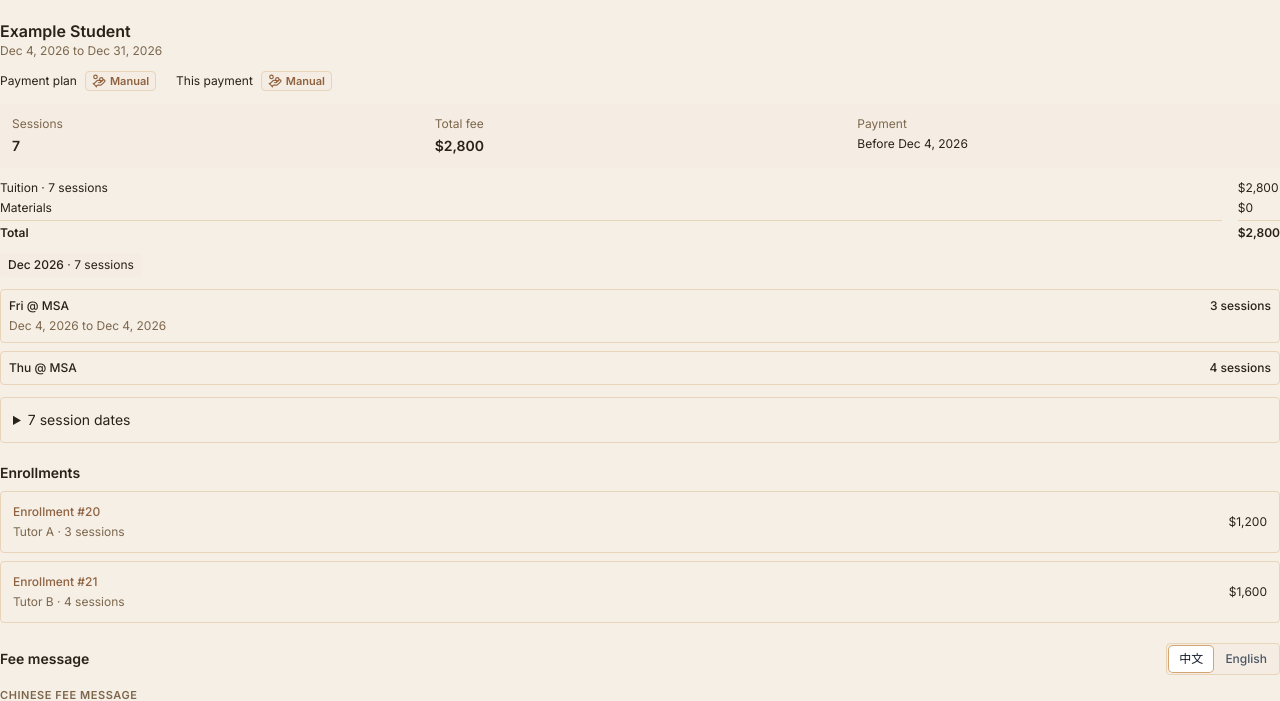
Test case: combined payment collection › keeps exact combined-payment controls inline and opens teaching records in the workspace
Step 1. Click the button "Enrollment #21" → (55, 582), box top-left (13, 574), bottom-right (97, 590)
(page scrolled)
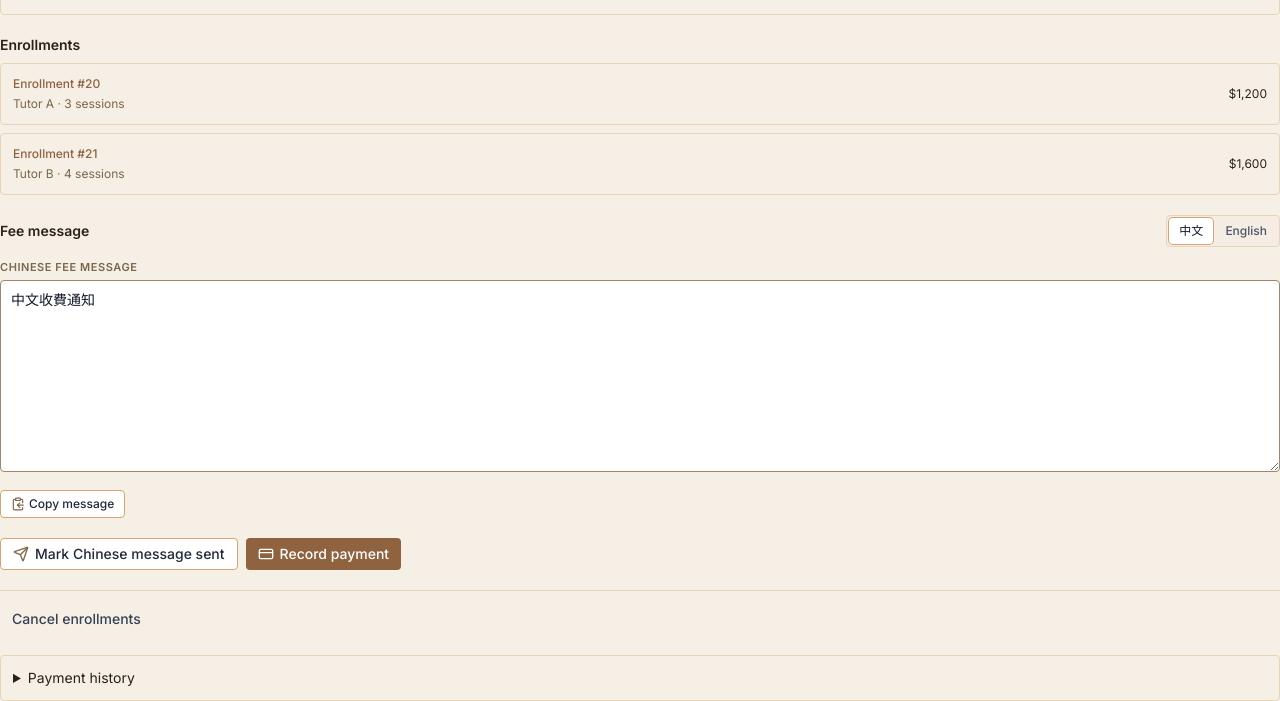
Step 2. Click the button "Record payment" → (323, 554), box top-left (246, 538), bottom-right (401, 570)
(page scrolled)
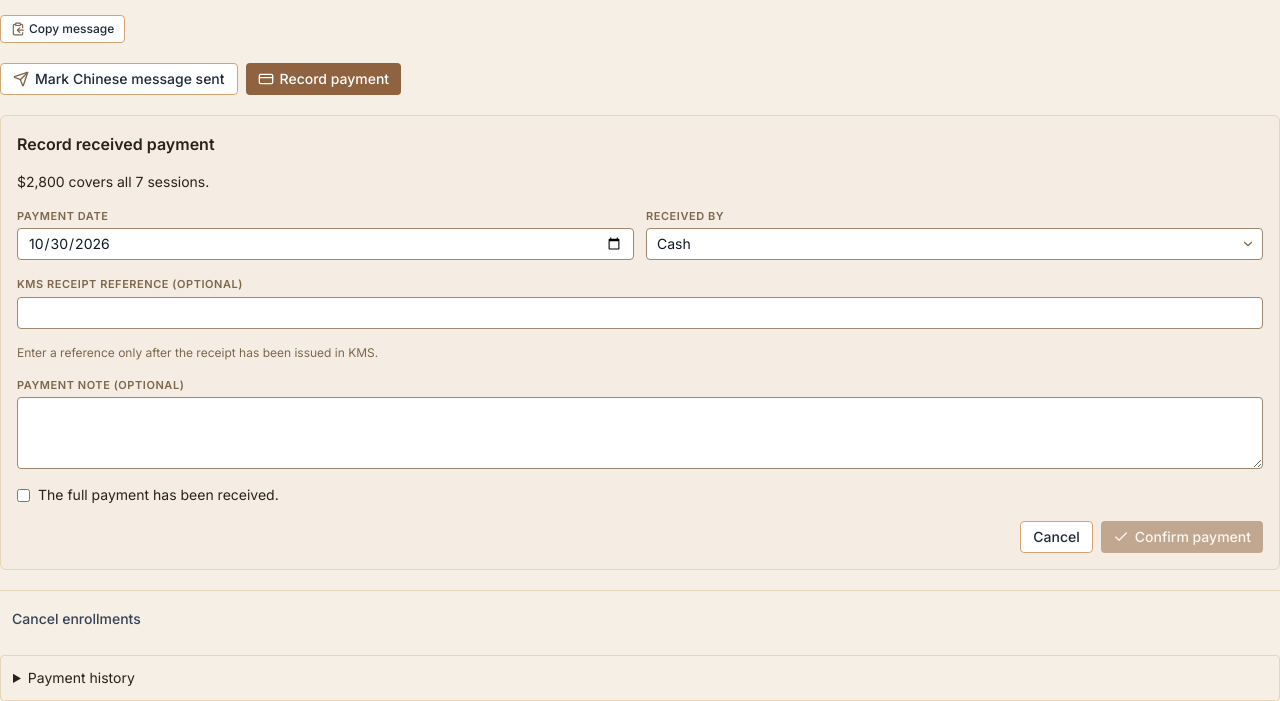
Step 3. Click the checkbox labelled "The full payment has been received." → (24, 496), box top-left (17, 489), bottom-right (30, 502)
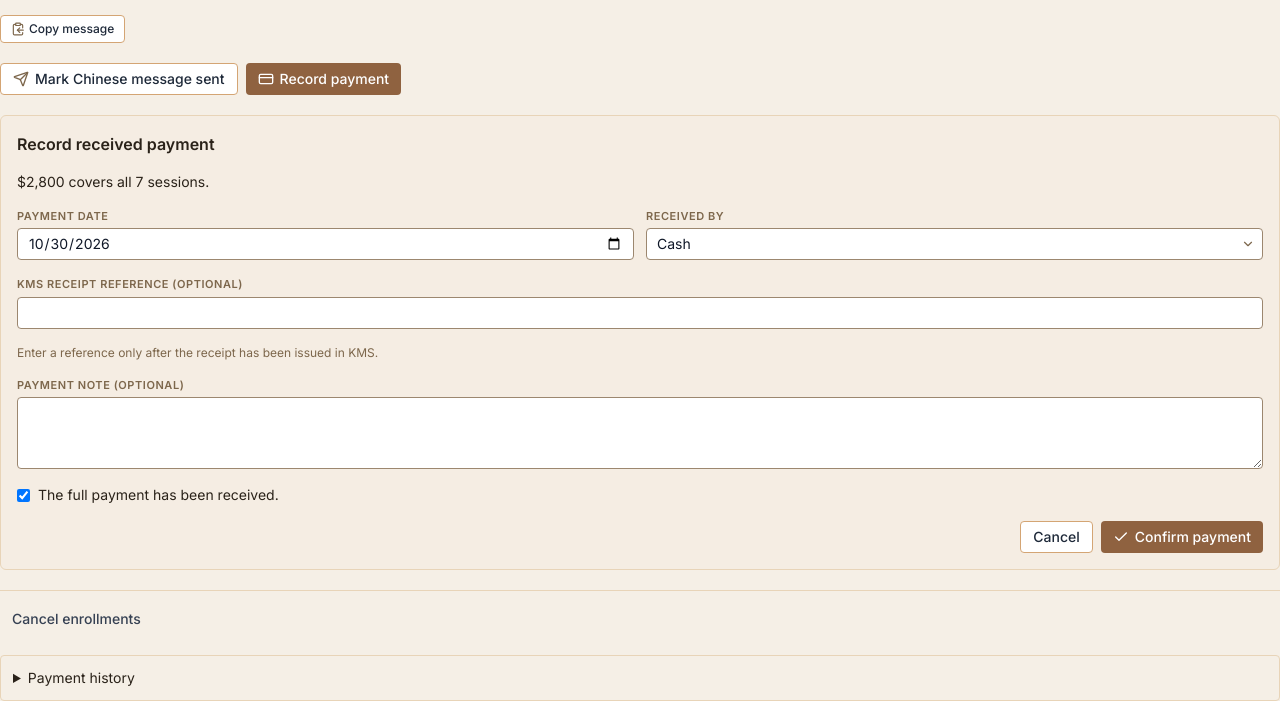
Step 4. Click the button "Confirm payment" → (1182, 537), box top-left (1101, 521), bottom-right (1263, 553)
(page scrolled)
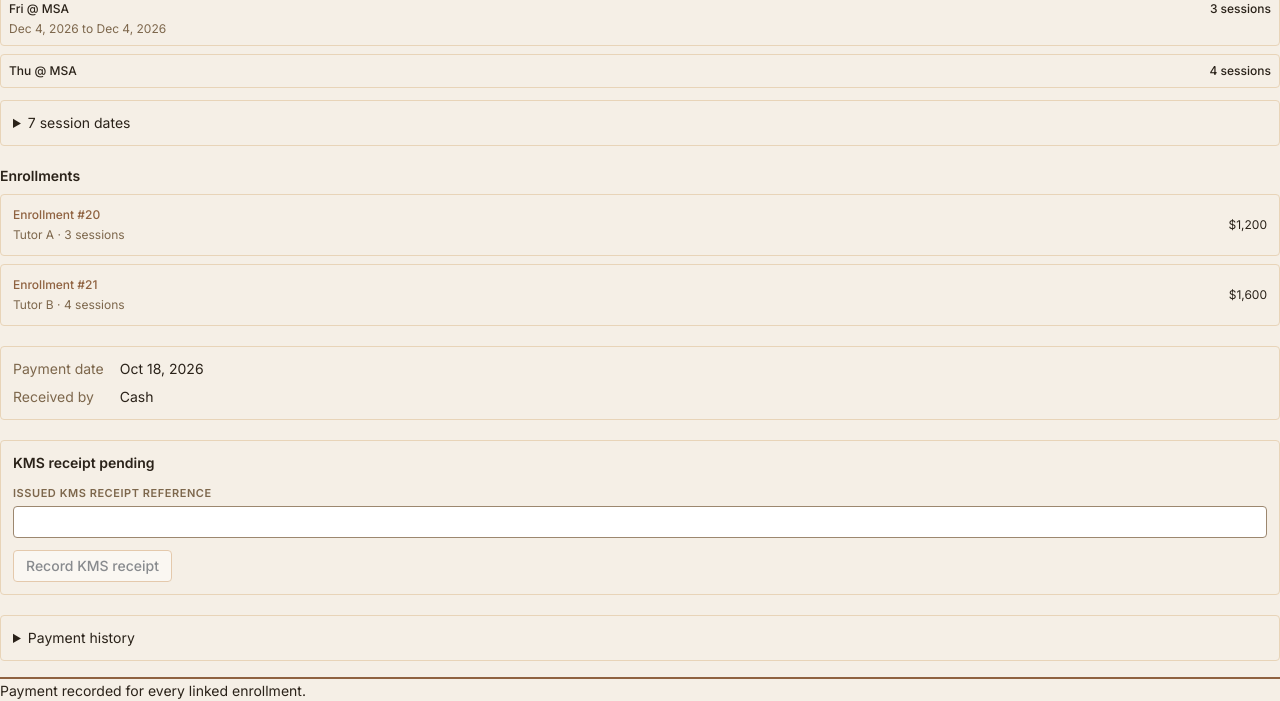
Now the text "Payment recorded for every linked enrollment." is shown, box top-left (0, 682), bottom-right (306, 699)
